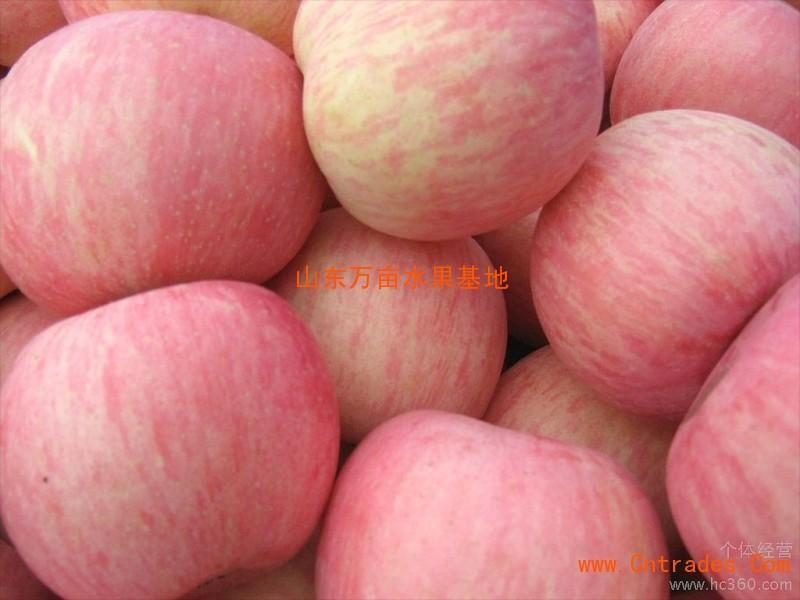apple: (1, 285, 342, 594), (2, 12, 326, 308), (528, 111, 796, 414), (295, 4, 608, 245), (308, 406, 668, 596), (285, 213, 514, 427), (664, 275, 795, 593), (607, 1, 800, 146)
